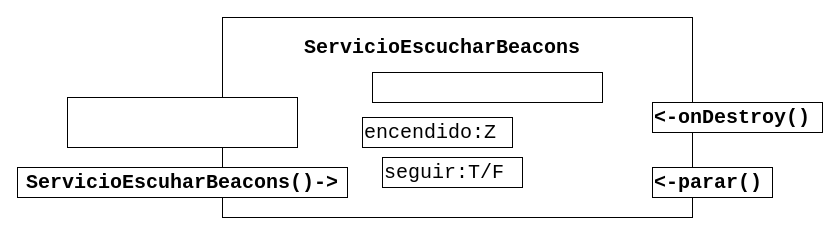
The diagram is 840 pixels wide and 235 high, and some of its shapes have lost their labels. Each missing label, with the box of its shape:
ETIQUETA_LOG:Texto: (372, 72, 602, 102)
Intent-> onHandleIntent()->: (66, 96, 298, 148)
